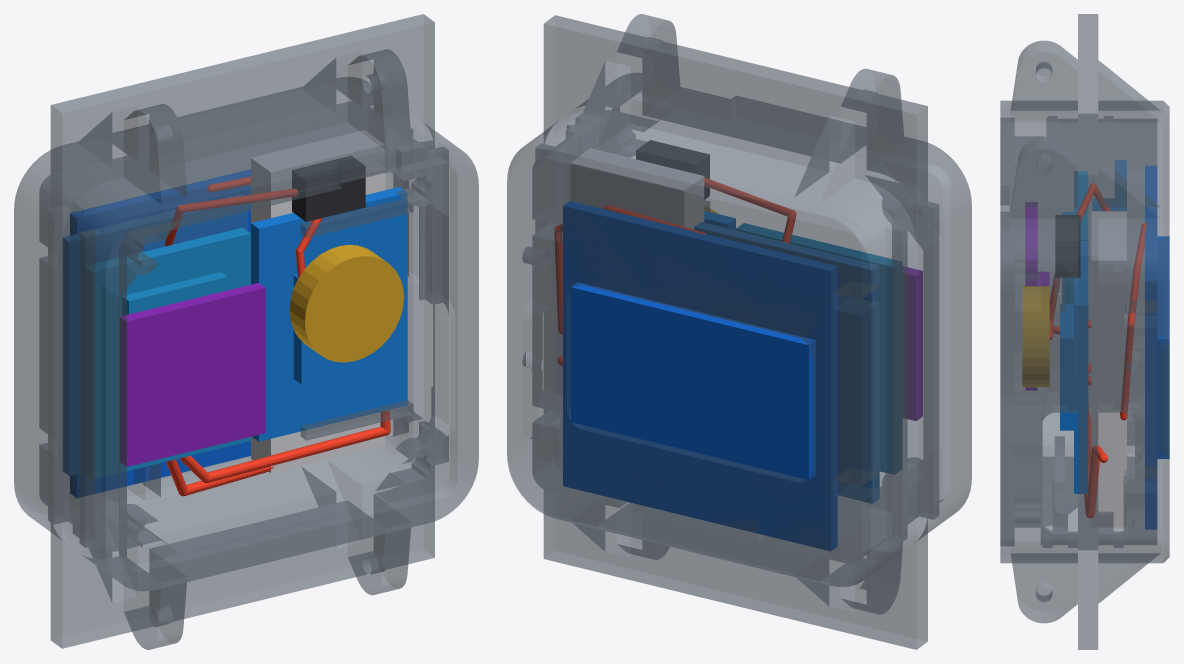
The model's file is smartwatch_assembly.obj.
3 views of the same model, side by side, from view 1: azimuth 30°, elevation 25°; view 2: azimuth 150°, elevation 25°; view 3: azimuth 270°, elevation 25° (orthographic). The views are drawn at different scales.
Parts seen in each view (by area): view 1: Watch_Body, MAX30100_PPG, MPU6050_Gyro, TP4056_Charger, RCD1027_Vibrator, ESP32_C3, LiPo_Battery, OLED_Display, Cable_Harnesses, Motor_Driver; view 2: Watch_Body, OLED_Display, ESP32_C3, LiPo_Battery, TP4056_Charger, MAX30100_PPG, Cable_Harnesses, Motor_Driver; view 3: Watch_Body, LiPo_Battery, OLED_Display, MPU6050_Gyro, Cable_Harnesses, RCD1027_Vibrator, Motor_Driver, MAX30100_PPG, TP4056_Charger, ESP32_C3.
Boxes of the visible parts, x1,y1,x2,y2 form: Watch_Body: (14,14,478,649); MAX30100_PPG: (120,283,265,466); MPU6050_Gyro: (251,187,407,441); TP4056_Charger: (85,227,250,478); RCD1027_Vibrator: (289,245,403,362); ESP32_C3: (63,194,247,475); LiPo_Battery: (251,130,384,473); OLED_Display: (70,169,250,497); Cable_Harnesses: (165,176,390,496); Motor_Driver: (292,156,365,221); Watch_Body: (507,14,971,649); OLED_Display: (563,201,837,550); ESP32_C3: (694,222,879,503); LiPo_Battery: (570,148,703,229); TP4056_Charger: (736,223,901,474); MAX30100_PPG: (903,267,922,420); Cable_Harnesses: (554,178,796,365); Motor_Driver: (636,140,709,199); Watch_Body: (1000,14,1169,649); LiPo_Battery: (1091,211,1126,527); OLED_Display: (1145,166,1169,529); MPU6050_Gyro: (1060,241,1087,493); Cable_Harnesses: (1050,183,1146,517); RCD1027_Vibrator: (1022,286,1049,386); Motor_Driver: (1055,215,1080,277); MAX30100_PPG: (1025,202,1049,390); TP4056_Charger: (1062,171,1087,303); ESP32_C3: (1092,160,1126,210).
Bounding box in the file's own units: 37.6 × 51.6 × 16.65.
